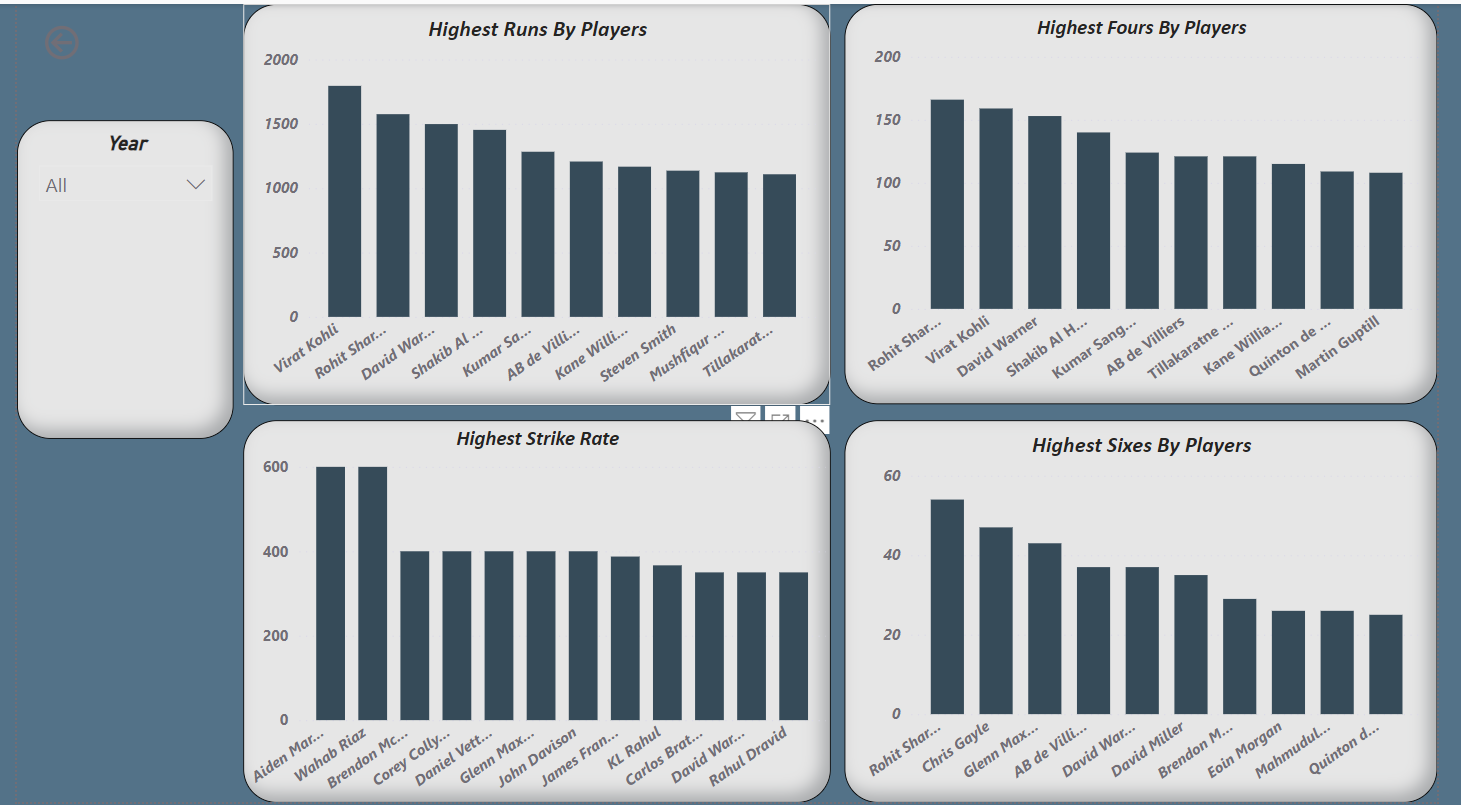

Layout of this report page (visuals, bound fields, positions):
{"tool":"powerbi","page":{"name":"Players Analysis","canvas":[1280,720],"ordinal":4},"visuals":[{"type":"columnChart","title":"Highest Runs By Players","fields":{"Category":["Complete_Batting_Data_2007_To_2.Batsman Names"],"Y":["Sum(Complete_Batting_Data_2007_To_2.Total Runs)"]},"box":[204.1,0,529.3,361.8],"z":0},{"type":"columnChart","title":"Highest Strike Rate","fields":{"Category":["Complete_Batting_Data_2007_To_2.Batsman Names"],"Y":["Max(Complete_Batting_Data_2007_To_2.Strike Rate)"]},"box":[204.1,375.3,529.3,344.7],"z":1000},{"type":"columnChart","title":"Highest Fours By Players","fields":{"Category":["Complete_Batting_Data_2007_To_2.Batsman Names"],"Y":["Sum(Complete_Batting_Data_2007_To_2.Fours)"]},"box":[745.7,0,534.2,360.6],"z":2000},{"type":"columnChart","title":"Highest Sixes By Players","fields":{"Category":["Complete_Batting_Data_2007_To_2.Batsman Names"],"Y":["Sum(Complete_Batting_Data_2007_To_2.Sixes)"]},"box":[745.7,375.3,534.2,344.7],"z":3000},{"type":"slicer","title":"Year","fields":{"Values":["Complete_Batting_Data_2007_To_2.Year"]},"box":[0,105.1,195.6,287.3],"z":4000},{"type":"actionButton","box":[20.8,14.7,100.2,40.3],"z":5000}]}

Visuals, with their boxes in screenshot pixels (x1, y1, x2, y2), scaled from the page's 1280x720 canvas onto the 1461x805 screenshot:
"Highest Runs By Players" columnChart: 233,0,837,405
"Highest Strike Rate" columnChart: 233,420,837,804
"Highest Fours By Players" columnChart: 851,0,1460,403
"Highest Sixes By Players" columnChart: 851,420,1460,804
"Year" slicer: 0,118,223,439
actionButton: 24,16,138,61
